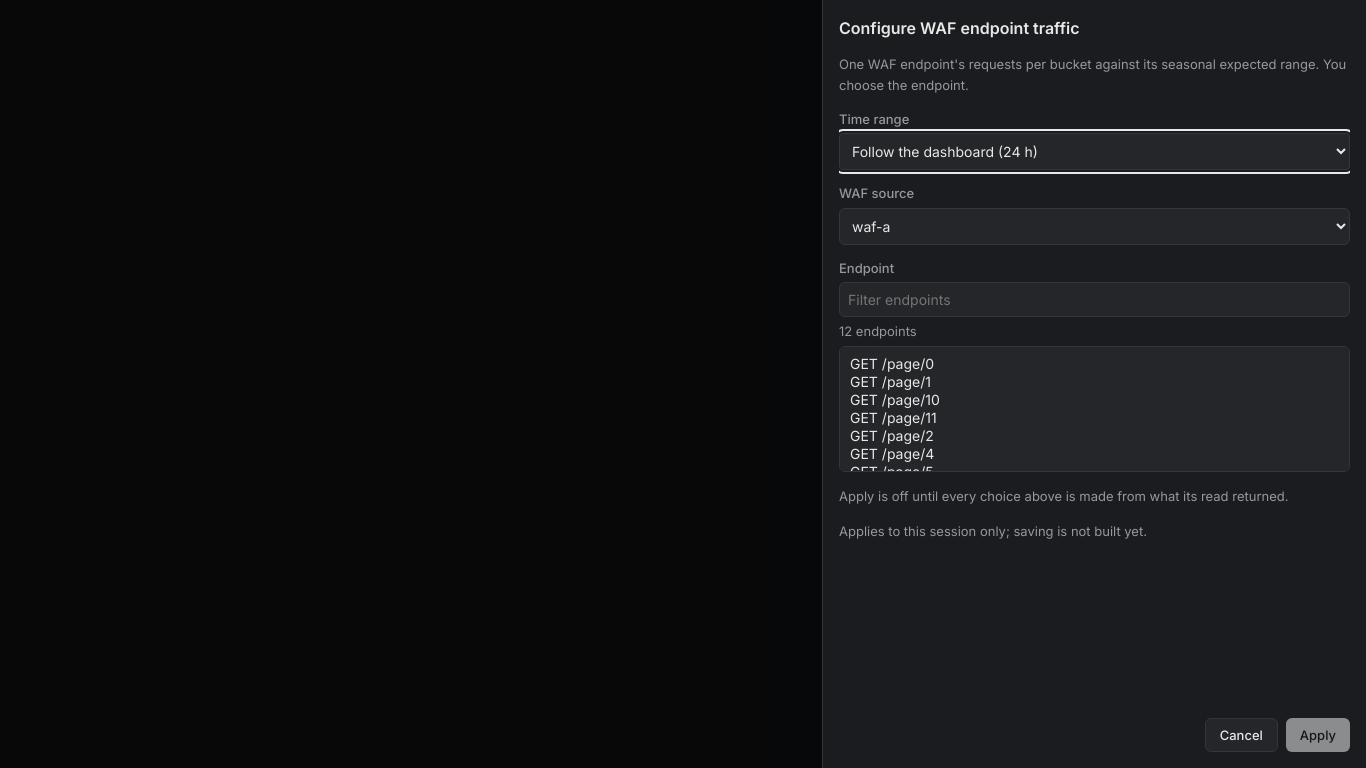
Test: the filter over a long list › narrows the options in the browser and never reaches a request
Type "Login" into the search field labelled "Filter endpoints".
click(1094, 300); type("Login")  # box [839,282,1350,317]
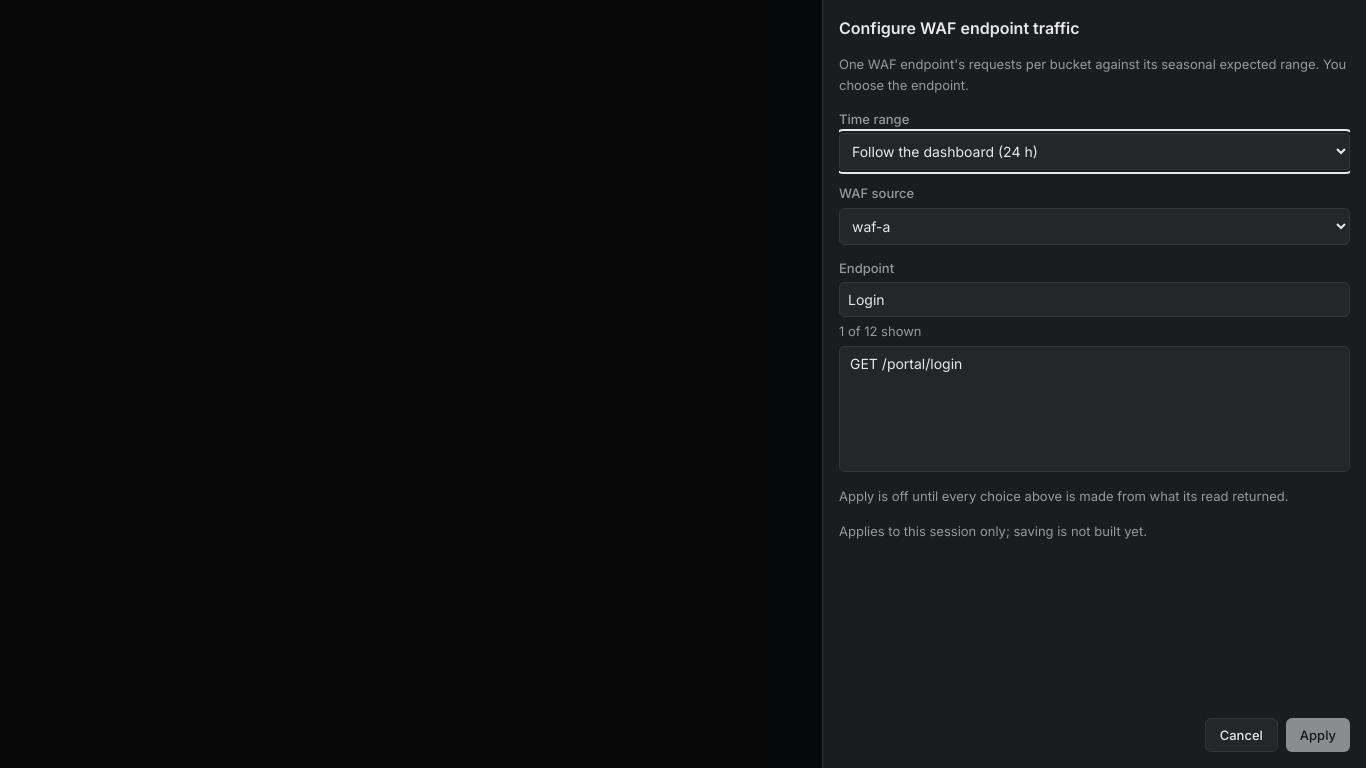
Expected: the text "1 of 12 shown" is shown, [839,323,922,339]
